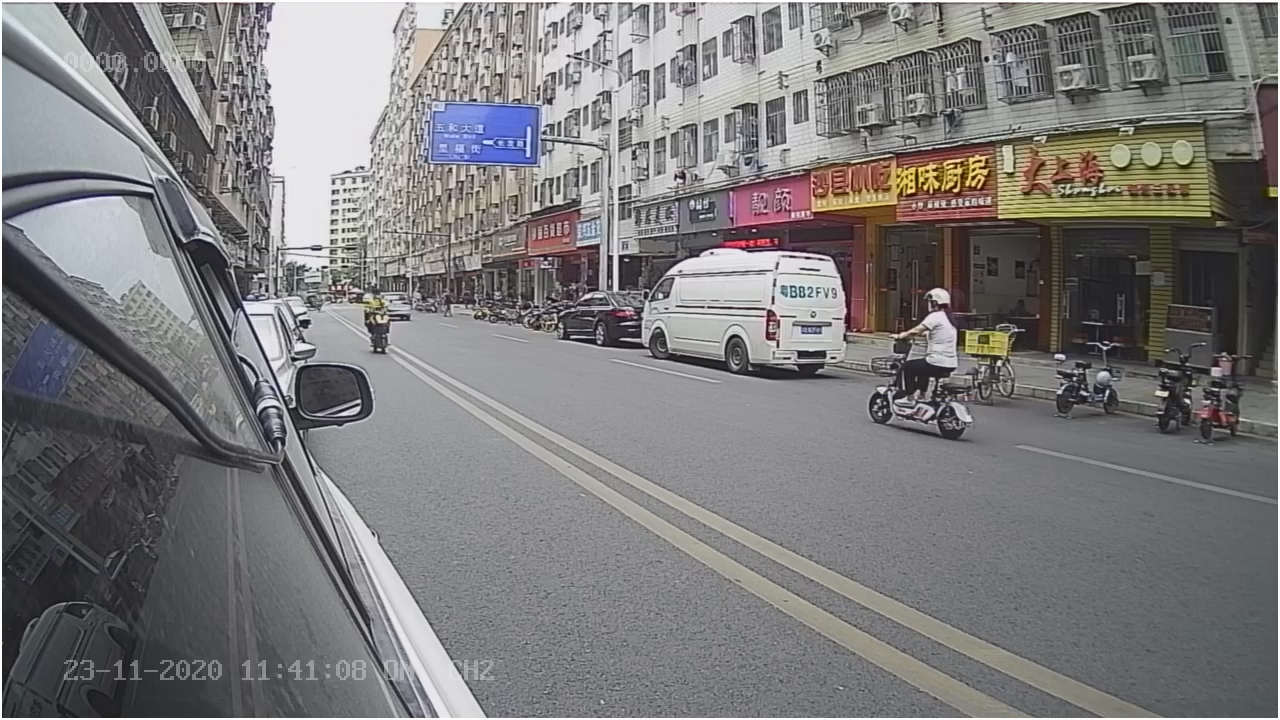person: (914, 284, 965, 373)
